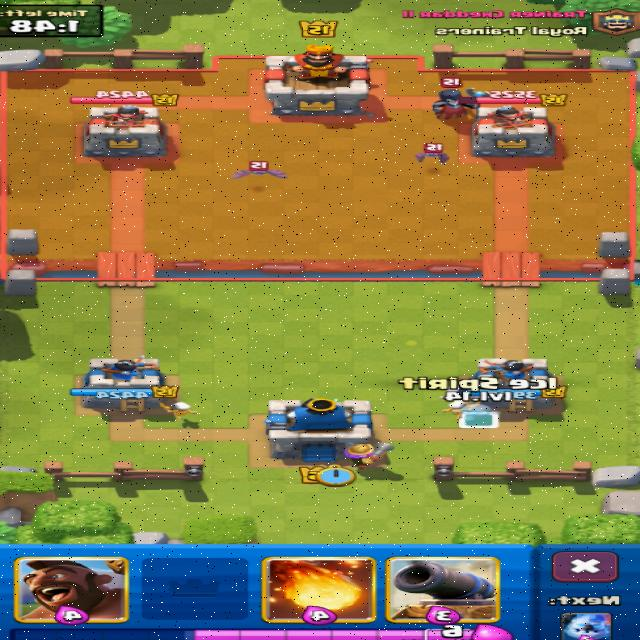Enemy-Bat: (233, 161, 286, 178), (416, 144, 450, 162)
Enemy-KingTower: (265, 45, 371, 115)
Enemy-NightWitch: (434, 89, 480, 119), (467, 88, 489, 96)
Enemy-PrincessTower: (84, 105, 167, 157), (472, 105, 555, 156)
Player-KingTower: (265, 398, 370, 462)
Player-Musketeer: (346, 443, 395, 469)
Player-PrincessTower: (71, 356, 177, 415), (459, 359, 567, 415)
Player-Skeleton: (160, 402, 197, 420), (443, 400, 476, 418)
